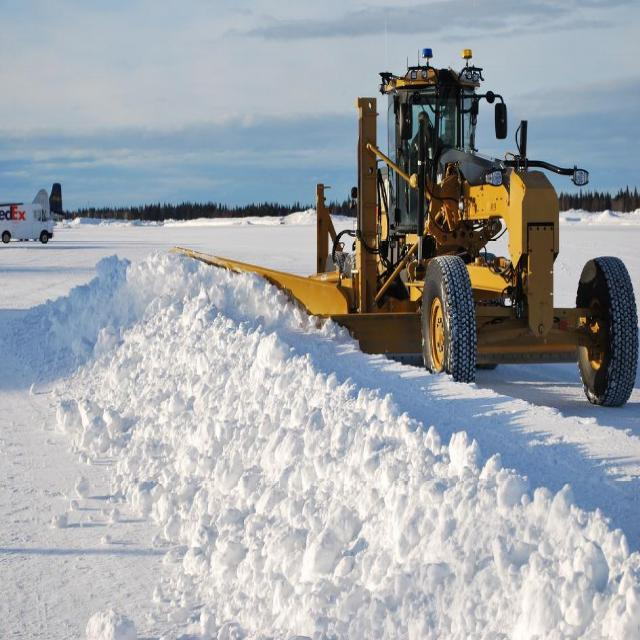Grader: (169, 48, 638, 405)
